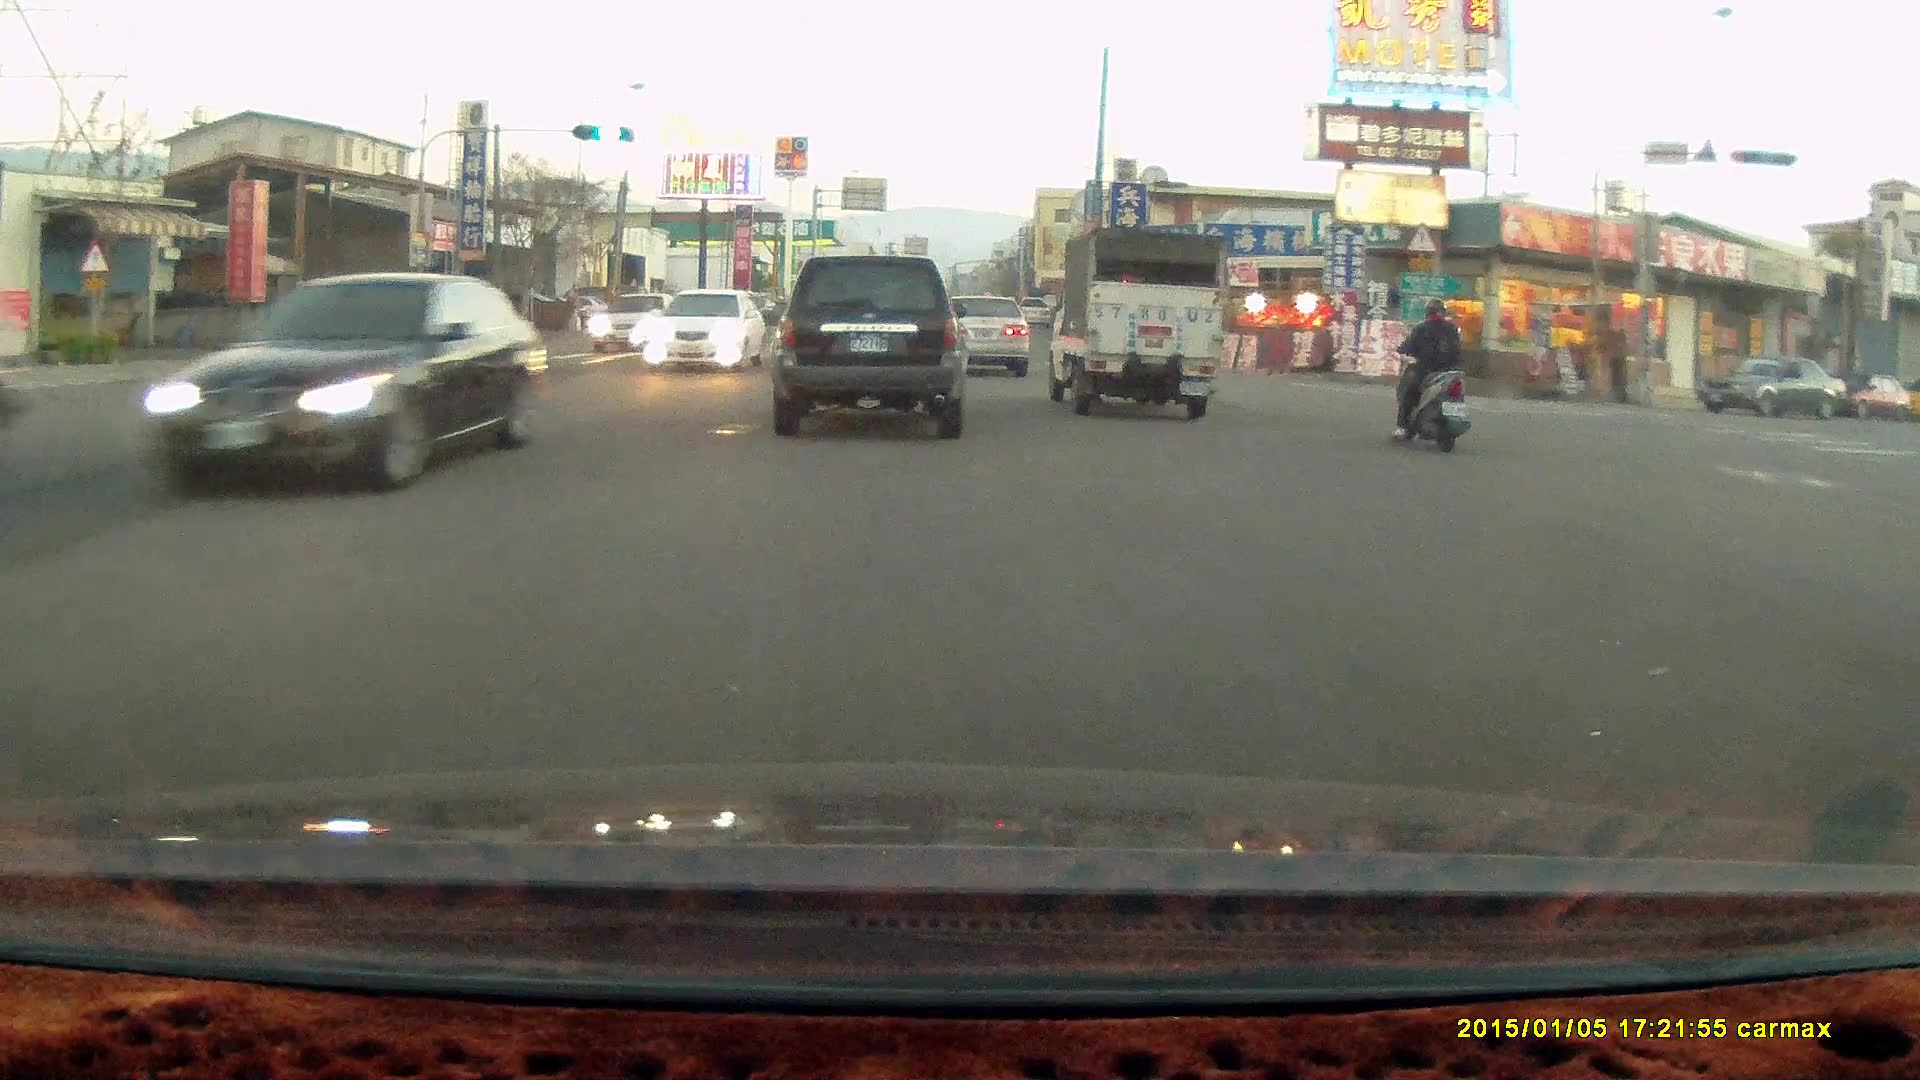rider: (1386, 292, 1472, 452)
vehicle: (145, 271, 543, 498), (766, 254, 969, 439), (1039, 227, 1223, 420), (366, 285, 523, 373), (644, 288, 767, 376), (1693, 355, 1849, 422), (927, 289, 1030, 377), (940, 294, 1032, 380), (590, 292, 684, 361), (283, 286, 407, 337), (1826, 374, 1914, 424)
